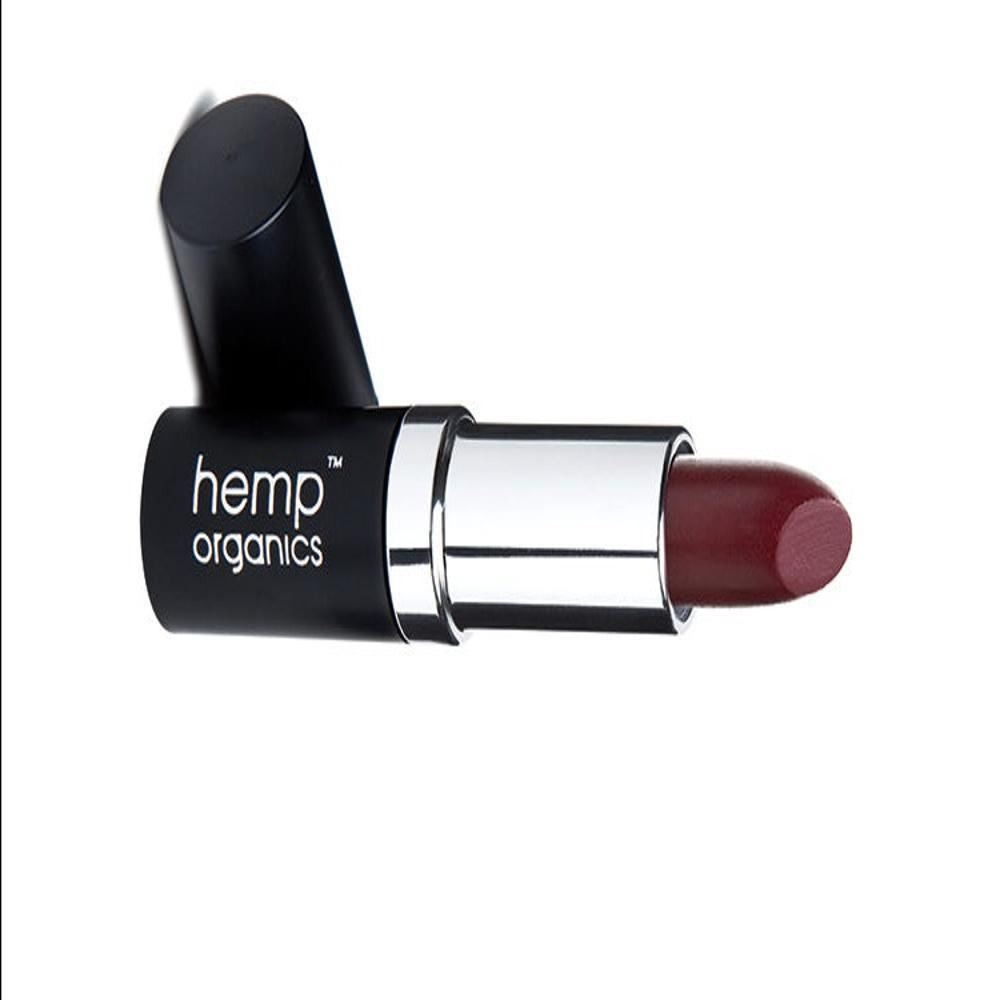lipstick: (131, 378, 856, 655)
